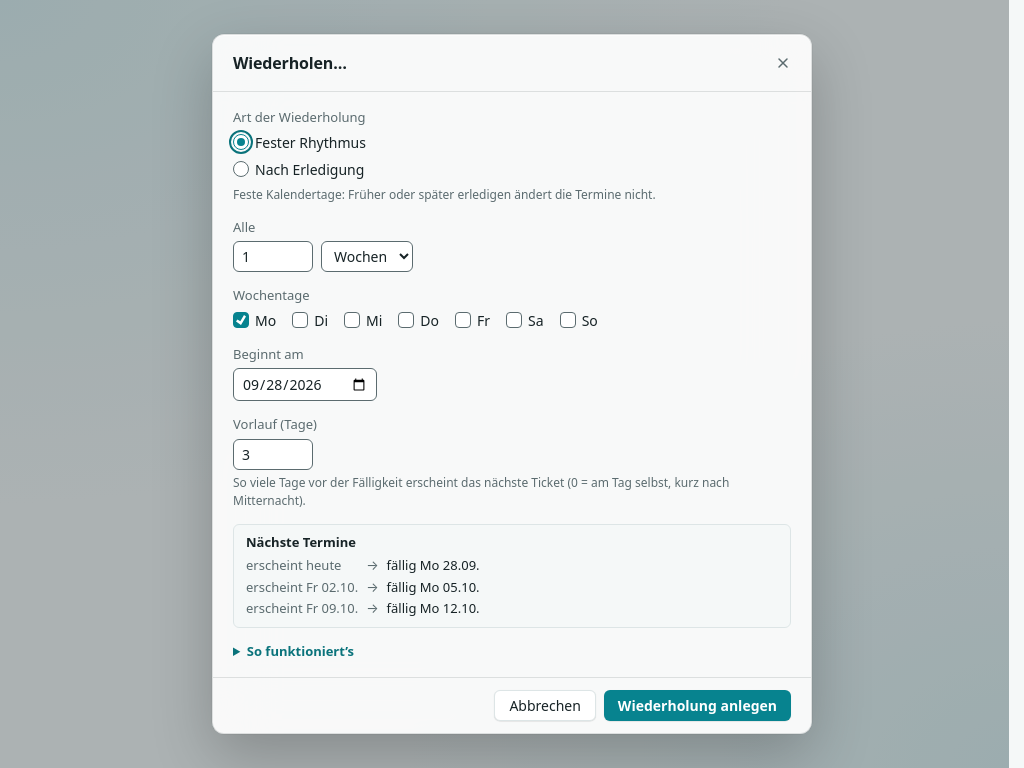
Test: RecurrenceDialog › opens with the focus on the kind and follows every change in the preview
The width and height of the screenshot is (1024, 768).
Click the checkbox named "Donnerstag".
click(406, 320)  # box top-left (398, 312), bottom-right (414, 328)
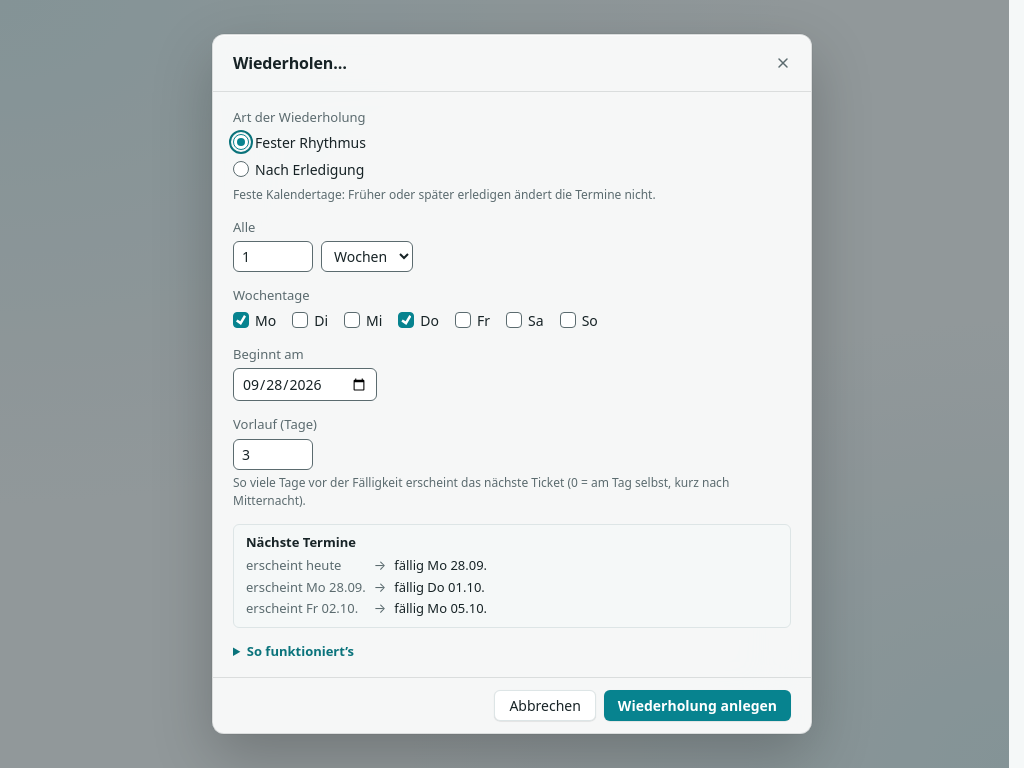
Replace the text in the number field labelled "Alle" with "2" at (273, 256), box top-left (233, 241), bottom-right (313, 272)
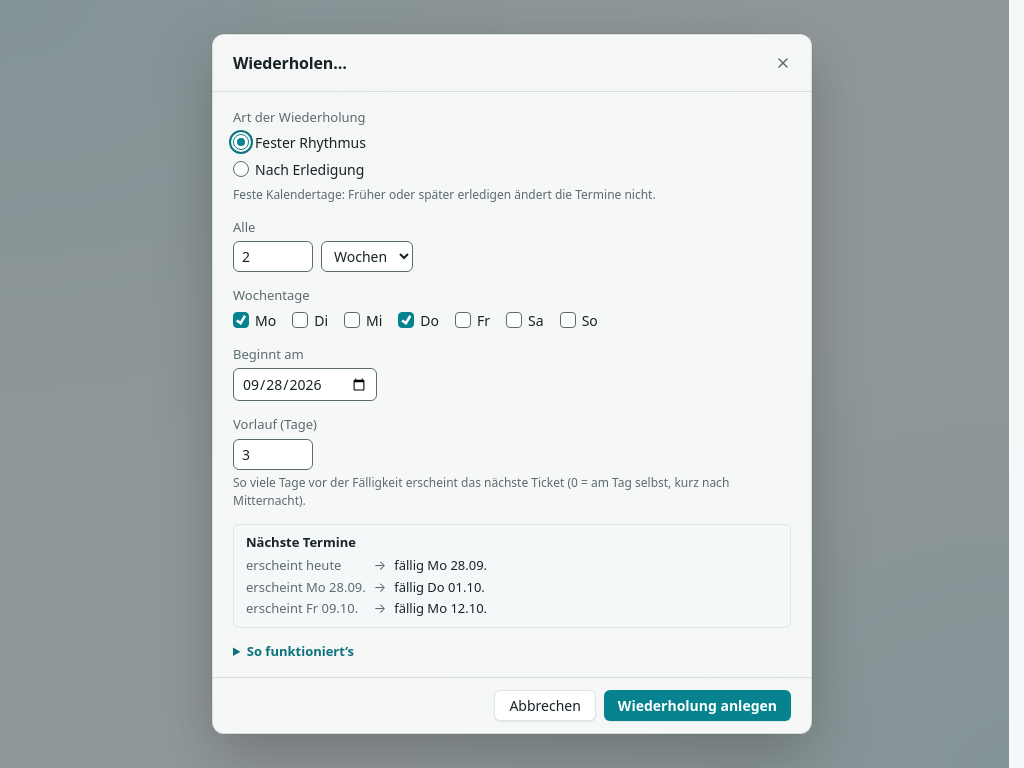
Select "Monate" in the dropdown named "Einheit" at (367, 256), box top-left (321, 241), bottom-right (413, 272)
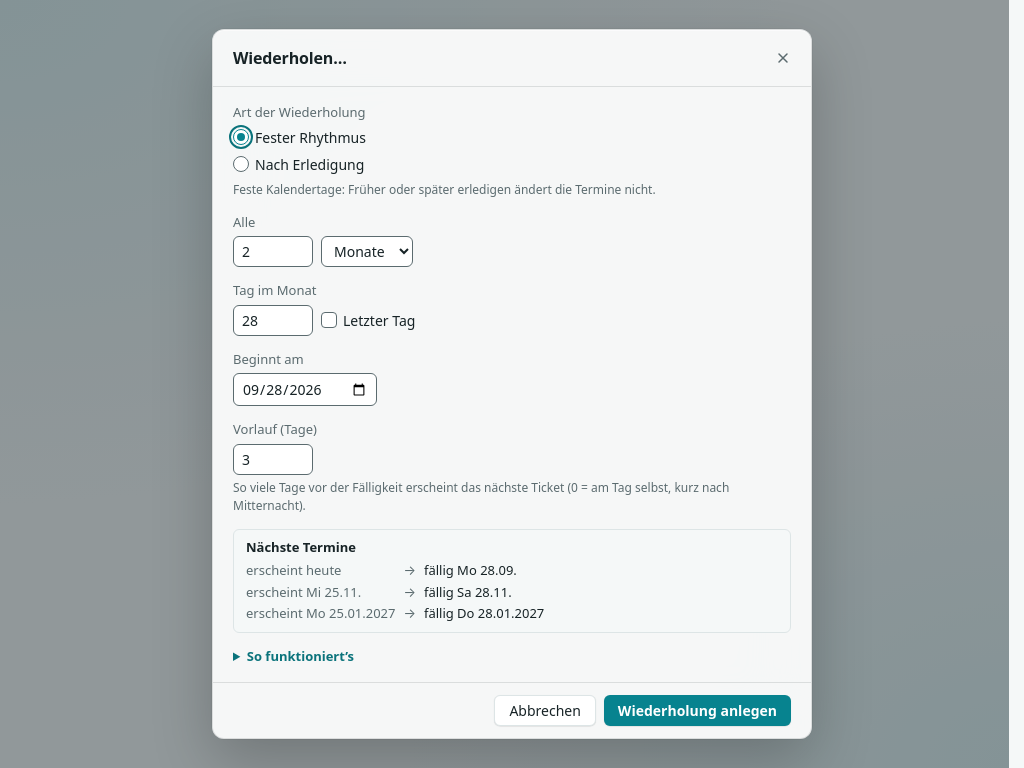
Now the text "Wochentage" is gone
Now the number field labelled "Tag im Monat" holds "28", box top-left (233, 304), bottom-right (313, 336)
